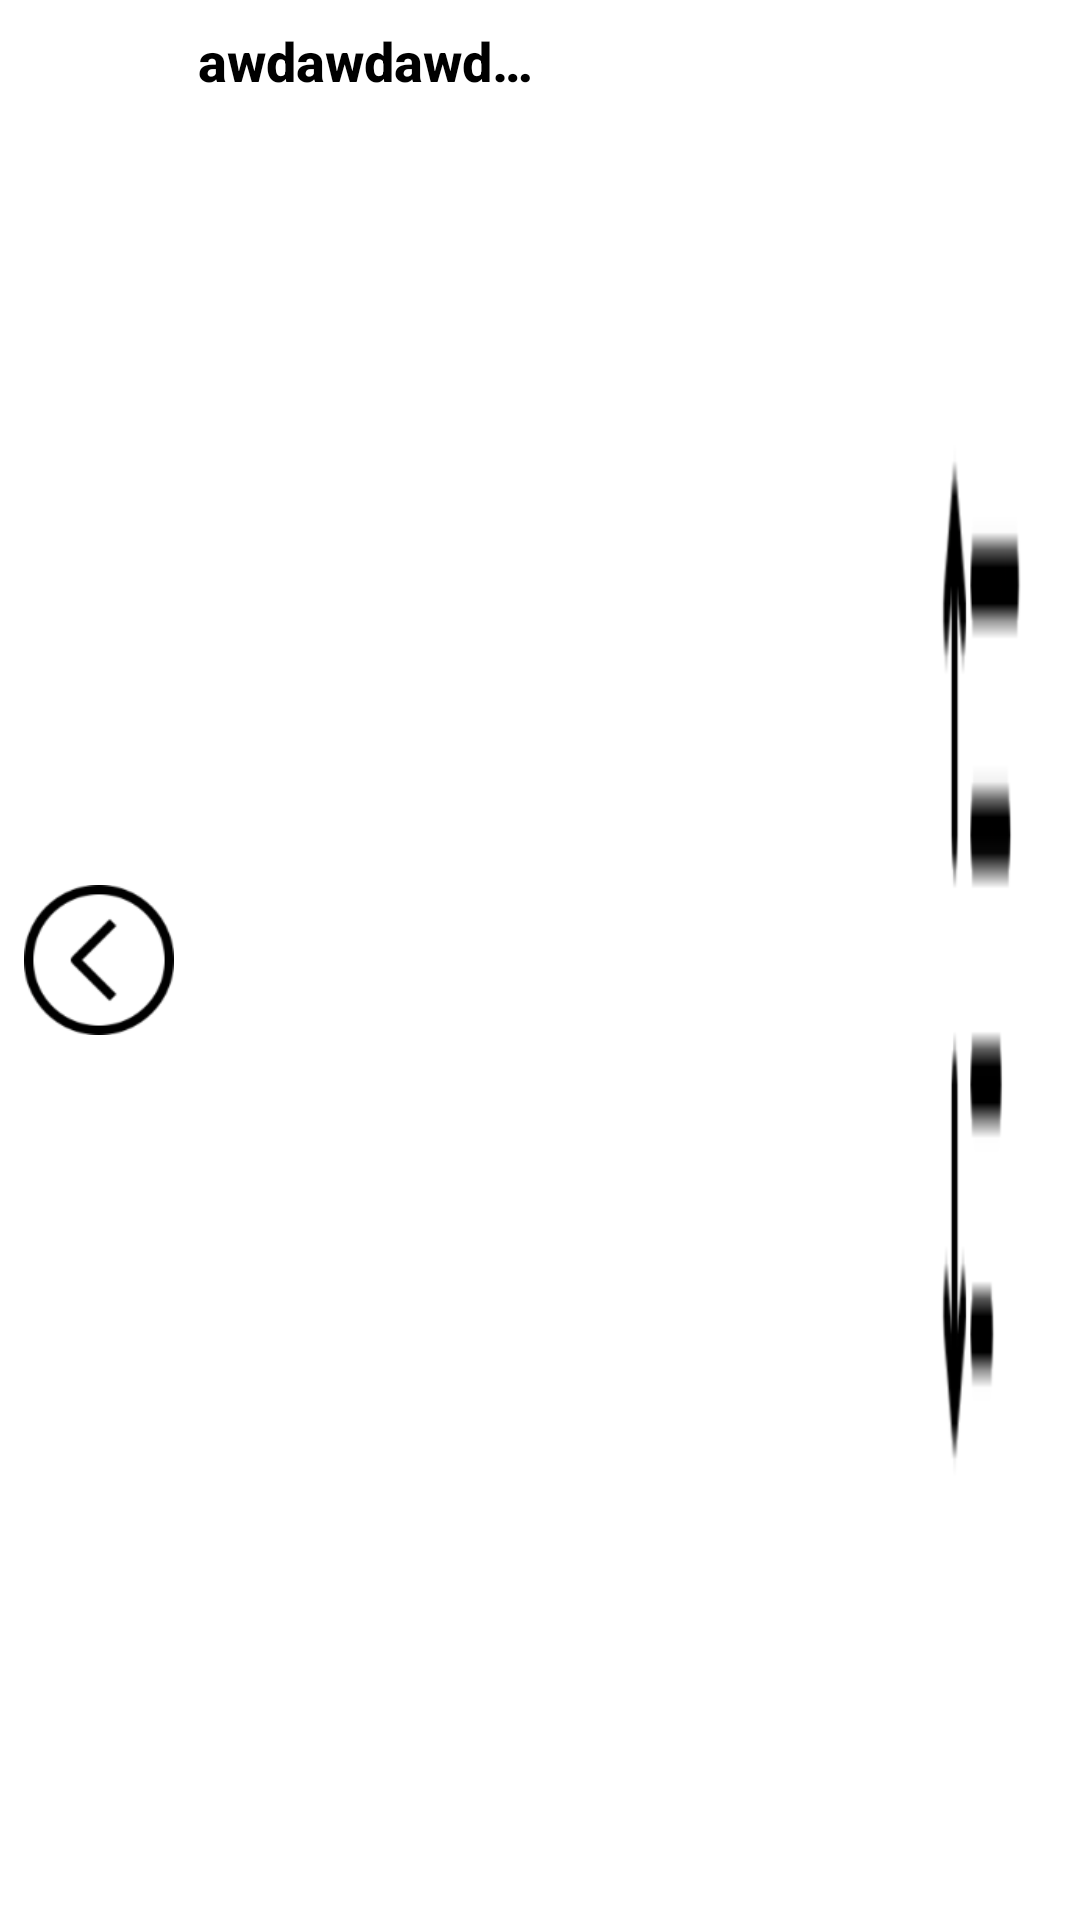

Named icons in this screenshot (1080 x 1920) and their centers, (x=x, y=y):
back: (x=99, y=960)
